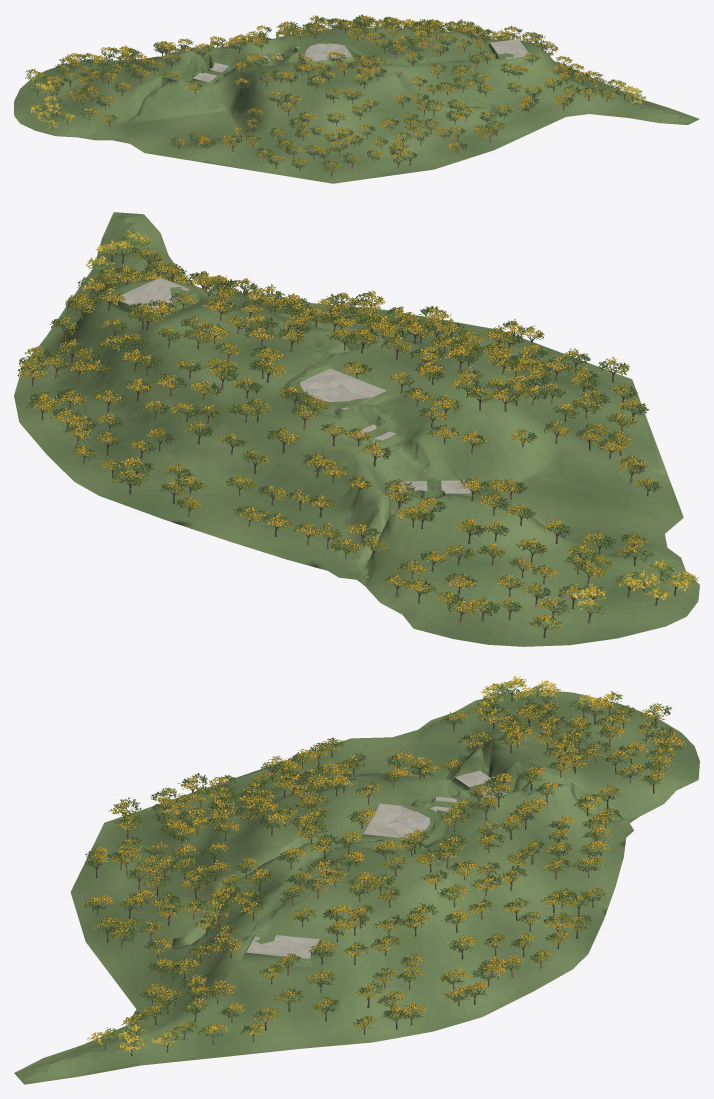
The model's file is HK_Terrain_Hikone.glb.
The picture shows the model from 3 angles, top to bottom: view 1: azimuth 30°, elevation 25°; view 2: azimuth 150°, elevation 25°; view 3: azimuth 270°, elevation 25°; orthographic projection. The views are drawn at different scales.
Visible parts, largest first — view 1: HK_Terrain_Hikone; view 2: HK_Terrain_Hikone; view 3: HK_Terrain_Hikone.
Boxes of the visible parts, x1,y1,x2,y2 form: HK_Terrain_Hikone: (14,14,699,183); HK_Terrain_Hikone: (14,212,699,646); HK_Terrain_Hikone: (14,675,699,1084).
Bounding box in the file's own units: 629 × 65.77 × 462.
